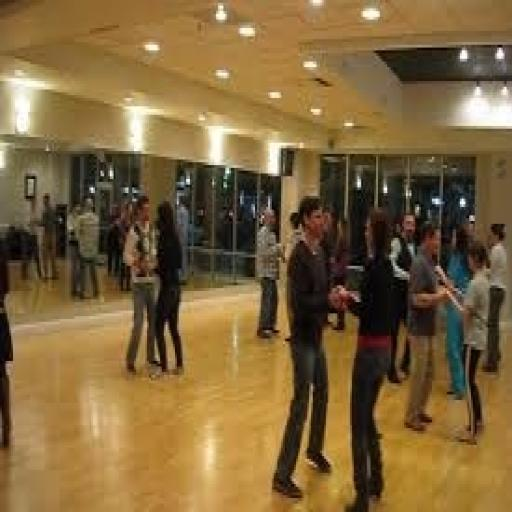dancing: (91, 150, 229, 508), (289, 186, 401, 447)
